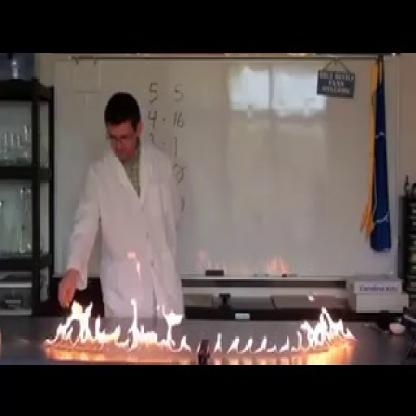fire: (40, 280, 356, 362)
